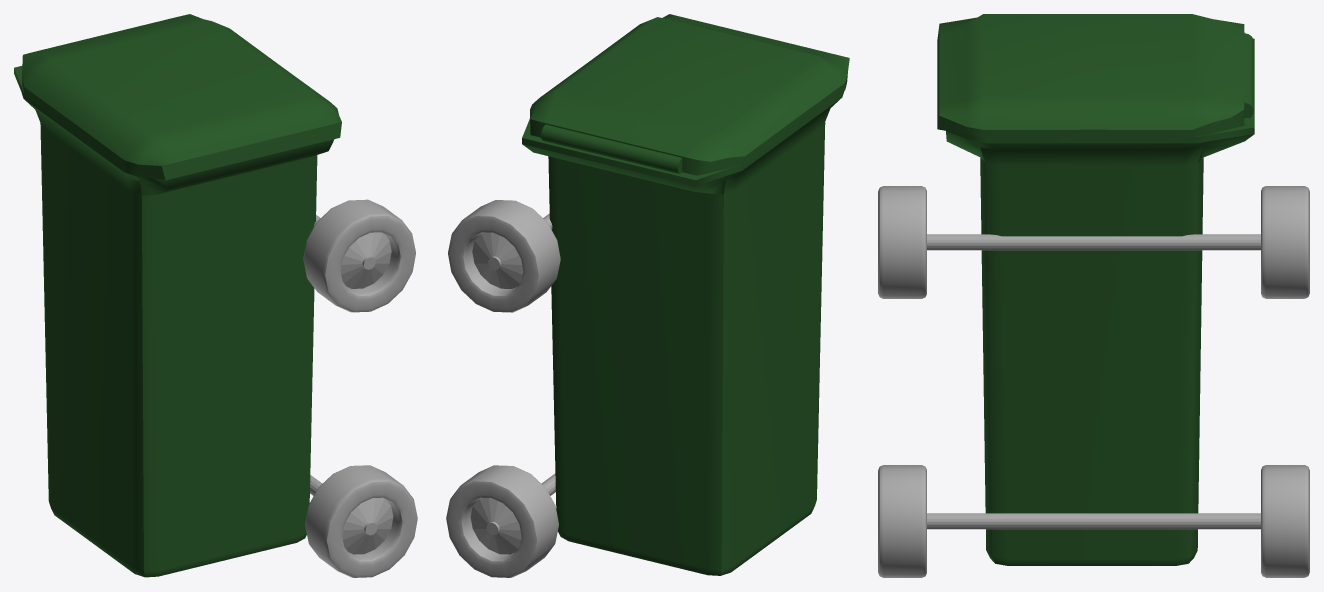
Rendered from Recycle_Racer_PlasticGarbageCan.fbx.
3 renders of one model, left to right at view 1: azimuth 30°, elevation 25°; view 2: azimuth 150°, elevation 25°; view 3: azimuth 270°, elevation 25°, orthographic. The views are drawn at different scales.
Visible parts, largest first — view 1: pCylinder70; view 2: pCylinder70; view 3: pCylinder70.
Part boxes in pixels (x1=…): pCylinder70: x1=14, y1=14, x2=417, y2=577; pCylinder70: x1=446, y1=14, x2=849, y2=577; pCylinder70: x1=878, y1=14, x2=1309, y2=577.
Size of the model in its own units: 1.49 by 2.63 by 2.18.
